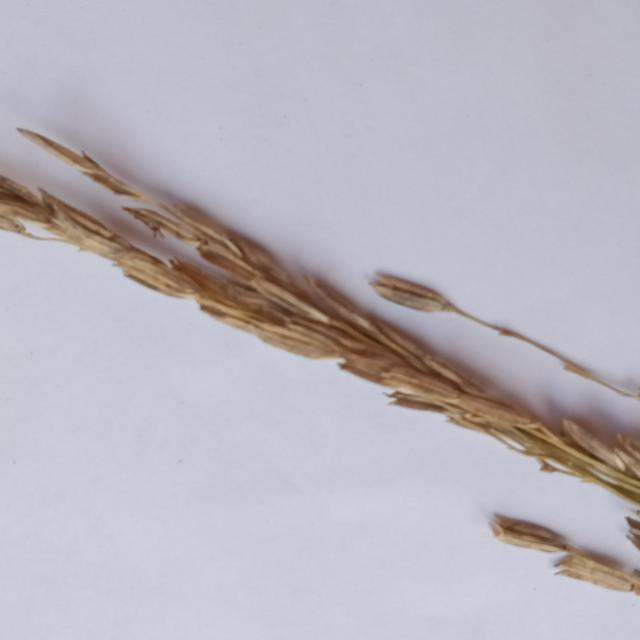Neck_Blast: (0, 124, 640, 505)
